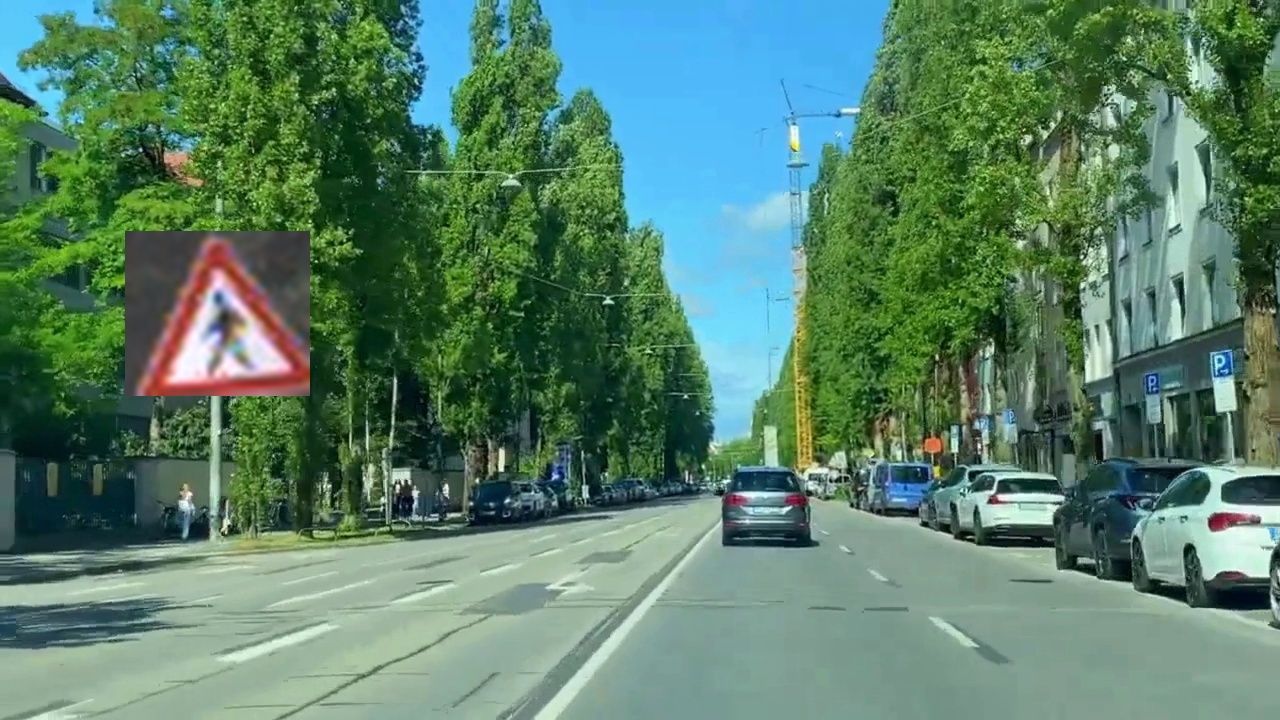Pedestrians: (125, 231, 310, 396)
